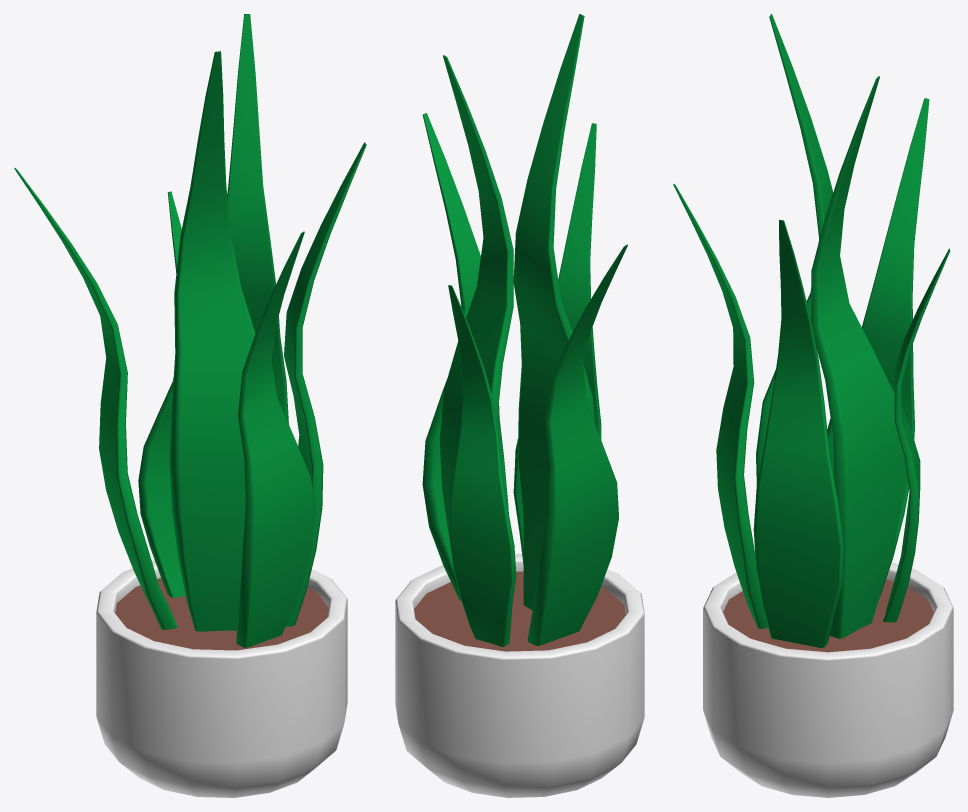
File: Town_3_Plant_3.glb
3 views of the same model, side by side, from view 1: azimuth 30°, elevation 25°; view 2: azimuth 150°, elevation 25°; view 3: azimuth 270°, elevation 25° (orthographic).
Parts seen in each view (by area): view 1: Town_3_Plant_3; view 2: Town_3_Plant_3; view 3: Town_3_Plant_3.
Boxes of the visible parts, bbox=[...] form: Town_3_Plant_3: bbox=[14, 14, 366, 797]; Town_3_Plant_3: bbox=[395, 14, 644, 797]; Town_3_Plant_3: bbox=[673, 14, 953, 797].
Bounding box in the file's own units: 0.6546 × 1.67 × 0.5789.
1 material, 1 textured.
